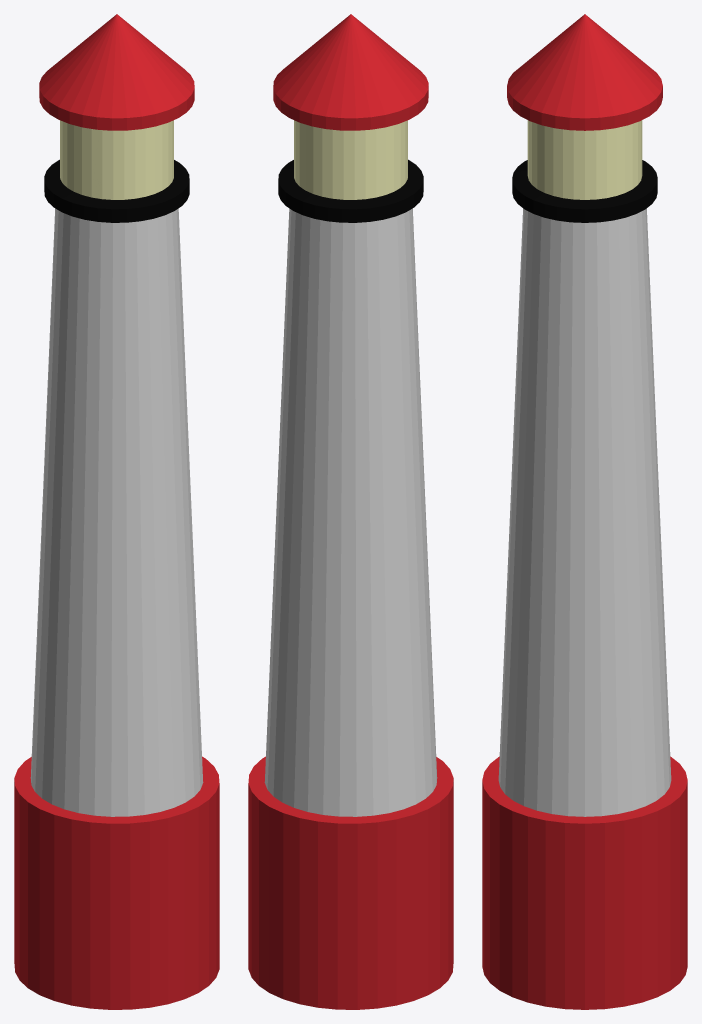
The model's file is LightHouse.glb.
3 views of the same model, side by side, from view 1: azimuth 30°, elevation 25°; view 2: azimuth 150°, elevation 25°; view 3: azimuth 270°, elevation 25° (orthographic).
Visible parts, largest first — view 1: LightHouse; view 2: LightHouse; view 3: LightHouse.
Part boxes in pixels (<box>): LightHouse: <box>14,14,219,1009</box>; LightHouse: <box>248,14,453,1009</box>; LightHouse: <box>482,14,687,1009</box>.
Bounding box in the file's own units: 4.7 × 24.06 × 4.7.
